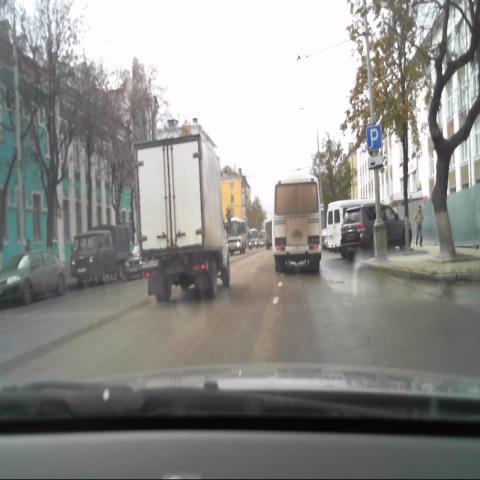6_4: (366, 125, 381, 150)
8_6_2: (369, 156, 382, 169)
